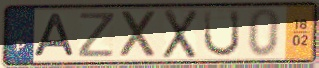0: (244, 7, 284, 60)
A: (32, 12, 78, 59)
U: (201, 8, 242, 59)
X: (119, 9, 160, 61), (161, 8, 200, 61)
Z: (76, 11, 118, 59)
